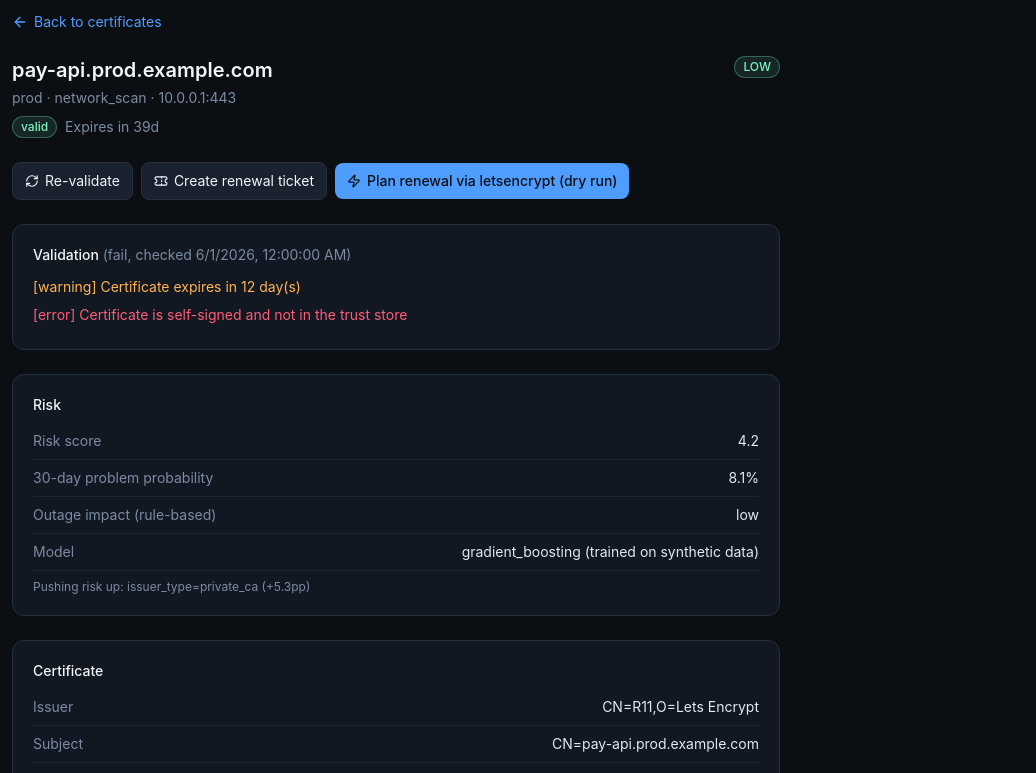
Test: CertificateDetail: plan, approve, execute › a plan that cannot run disables approval and explains why
Click the button "Plan renewal via letsencrypt (dry run)".
click(482, 181)  # box [335,163,630,199]
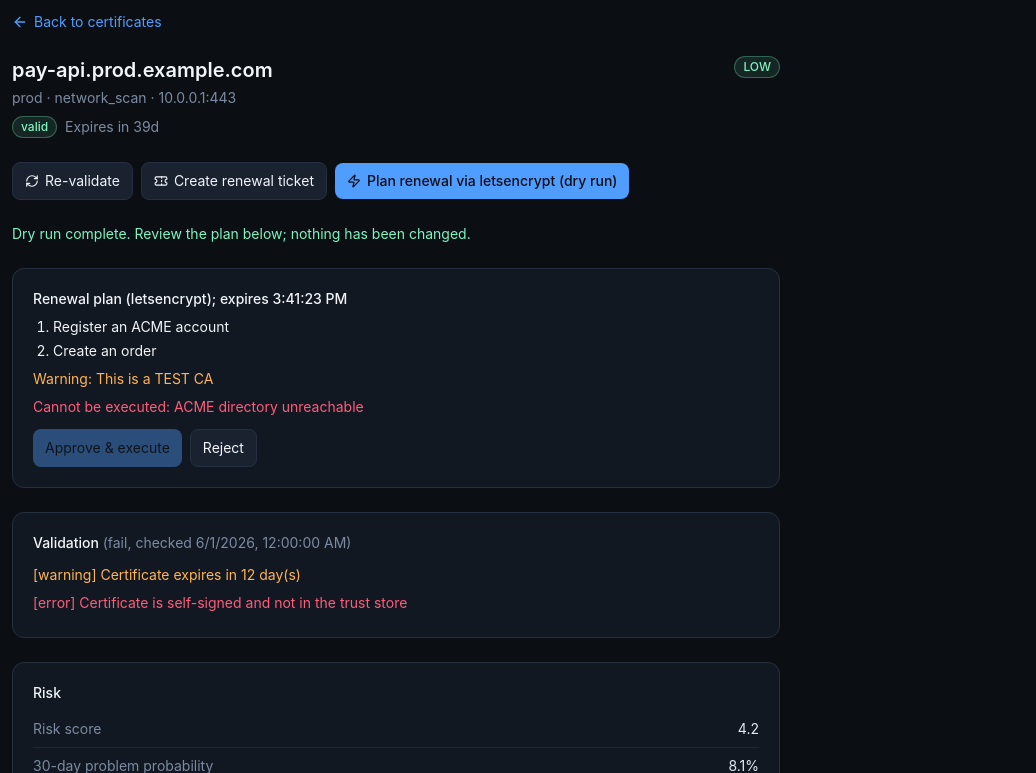
Check: the text "Cannot be executed: ACME directory unreachable" is shown, box [33,398,364,415]
Check: the button "Approve & execute" is disabled, box [33,429,182,467]
